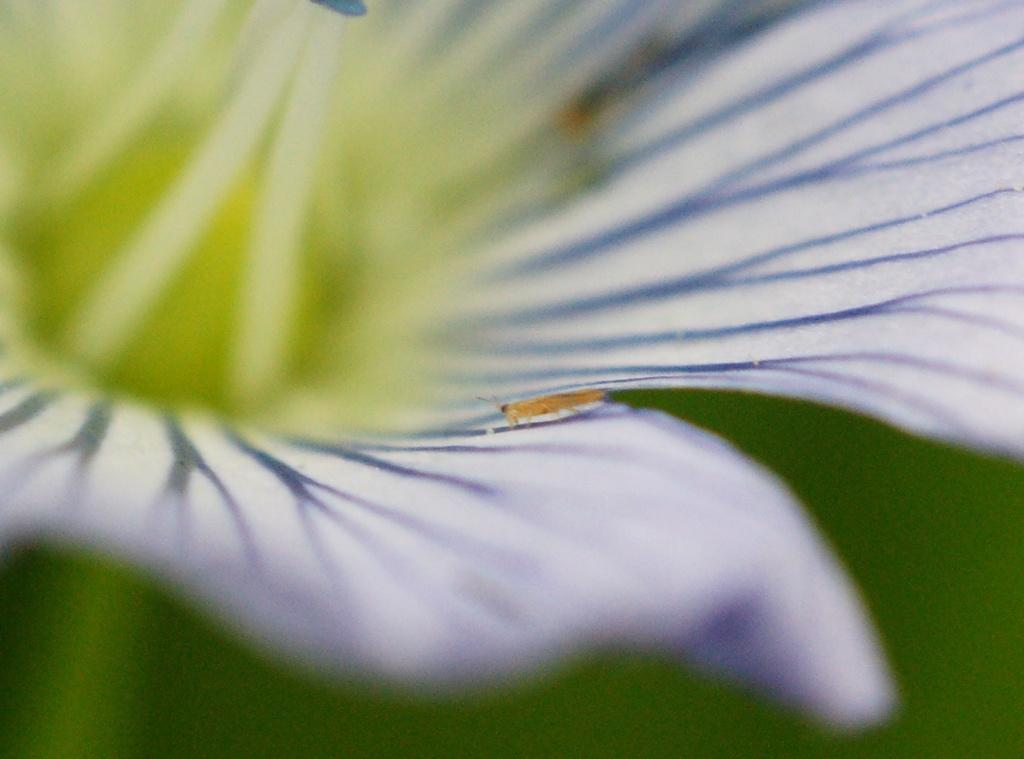tiny_pests: (460, 353, 646, 461)
